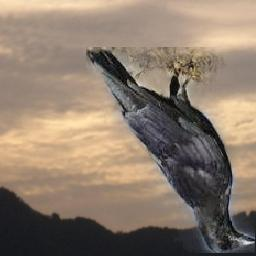Crow: (87, 47, 256, 253)
